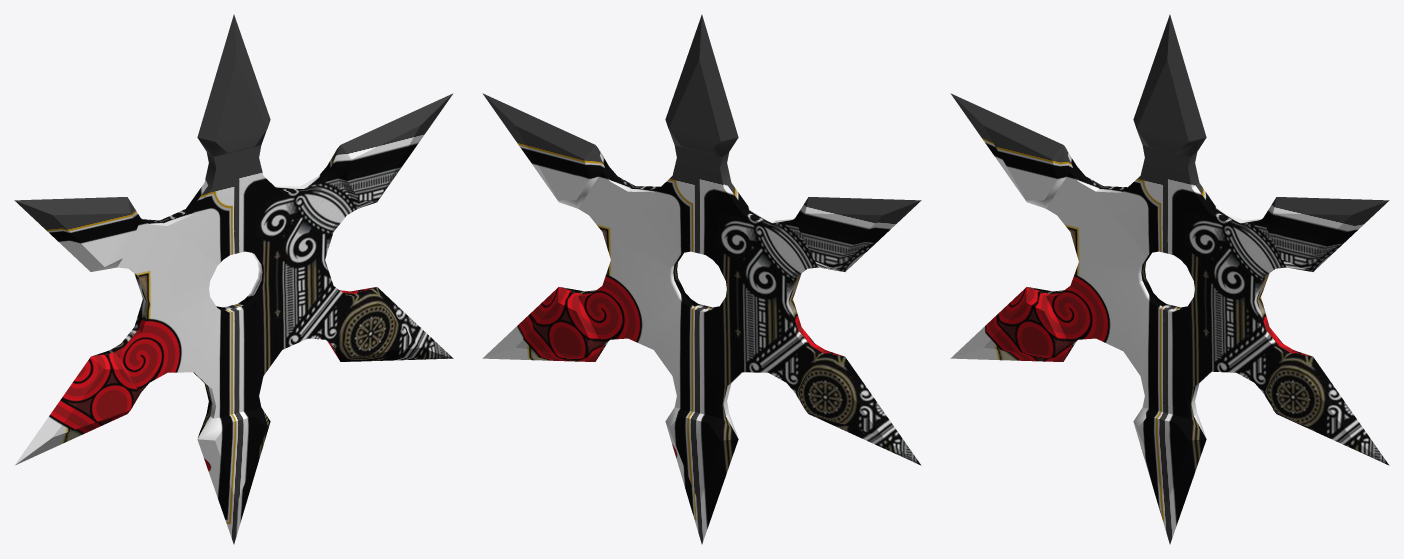
File: shuriken.fbx
3 renders of one model, left to right at view 1: azimuth 30°, elevation 25°; view 2: azimuth 150°, elevation 25°; view 3: azimuth 330°, elevation 25°, orthographic.
Parts seen in each view (by area): view 1: shuriken; view 2: shuriken; view 3: shuriken.
Part boxes in pixels (x1,y1,x2,y2): shuriken: (14,14,453,544); shuriken: (482,14,921,544); shuriken: (950,14,1389,544).
Bounding box in the file's own units: 3.51 × 4.06 × 0.2023.
